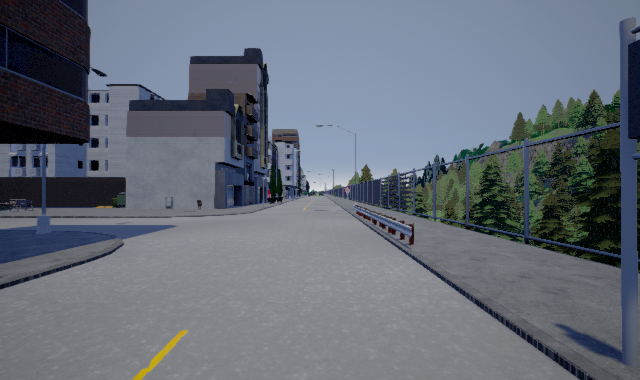traffic_light: (628, 39, 640, 139)
